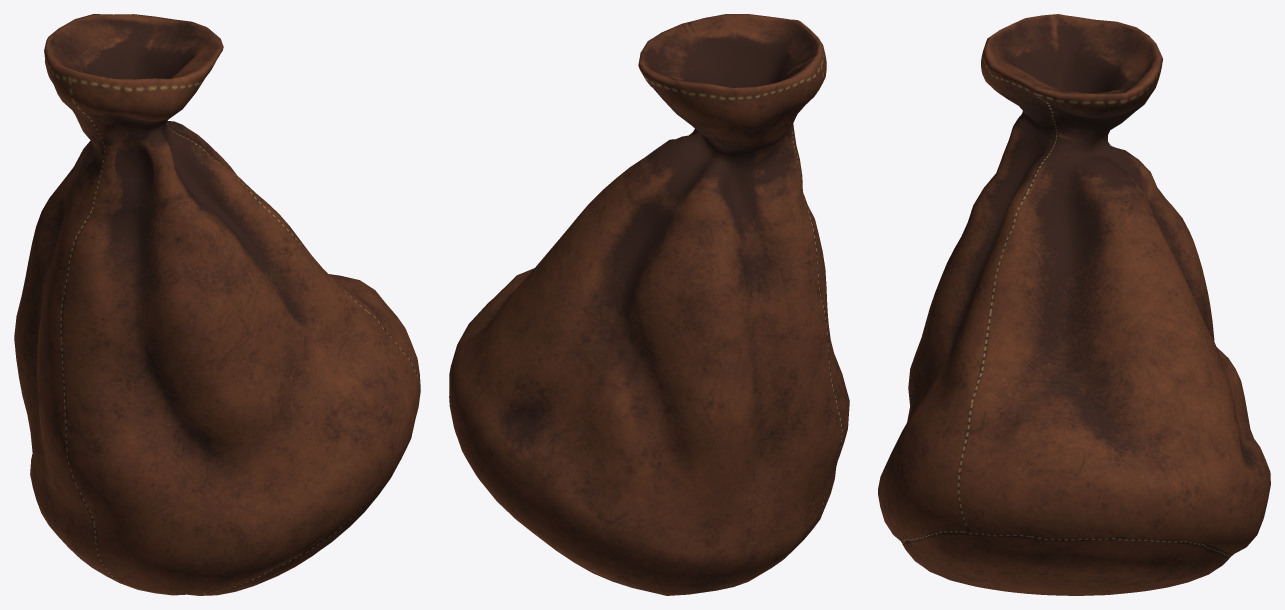
Rendered from Bag_1.fbx.
3 views of the same model, side by side, from view 1: azimuth 30°, elevation 25°; view 2: azimuth 150°, elevation 25°; view 3: azimuth 270°, elevation 25° (orthographic). The views are drawn at different scales.
Parts seen in each view (by area): view 1: bag_low; view 2: bag_low; view 3: bag_low.
Part boxes in pixels (x1,y1,x2,y2): bag_low: (14,14,420,595); bag_low: (449,14,849,595); bag_low: (878,14,1270,595).
Size of the model in its own units: 15.39 by 23.07 by 15.64.
